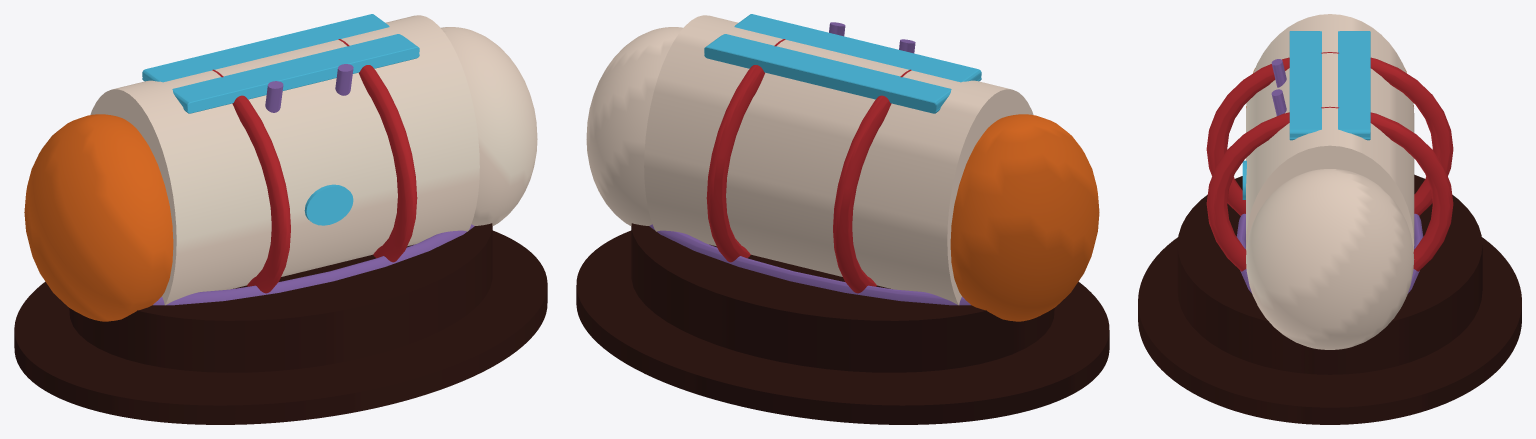
Rendered from 0362_航空航天图鉴_中国空间站.glb.
3 renders of one model, left to right at view 1: azimuth 30°, elevation 25°; view 2: azimuth 150°, elevation 25°; view 3: azimuth 270°, elevation 25°, orthographic. The views are drawn at different scales.
Visible parts, largest first — view 1: card_0362; view 2: card_0362; view 3: card_0362.
Part boxes in pixels (box(x1,y1,x2,y2)): card_0362: box(14, 14, 547, 424); card_0362: box(576, 14, 1109, 424); card_0362: box(1138, 14, 1521, 424).
Bounding box in the file's own units: 1.87 × 1 × 1.43.
